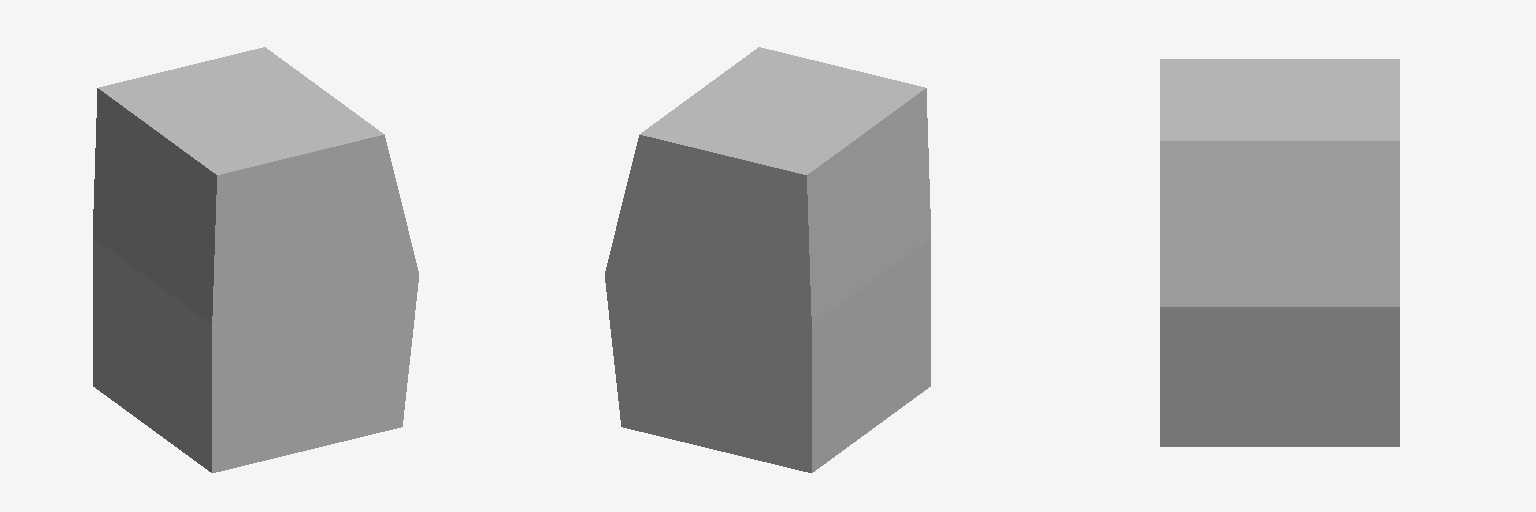
Rendered from backpack.obj.
3 views of the same model, side by side, from view 1: azimuth 30°, elevation 25°; view 2: azimuth 150°, elevation 25°; view 3: azimuth 270°, elevation 25° (orthographic).
Parts seen in each view (by area): view 1: Cube; view 2: Cube; view 3: Cube.
Part boxes in pixels (x1,y1,x2,y2): Cube: (93,47,418,472); Cube: (605,47,930,472); Cube: (1160,59,1399,446).
Size of the model in its own units: 2 by 2.74 by 2.